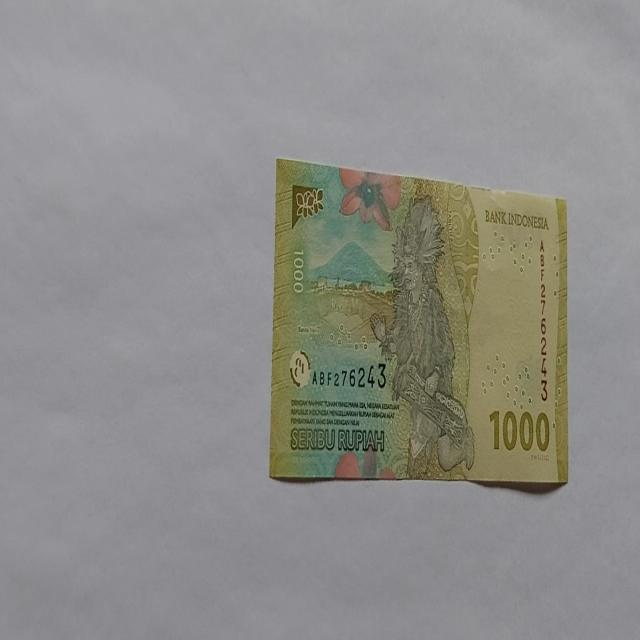seribu rupiah kertas: (270, 156, 568, 486)
